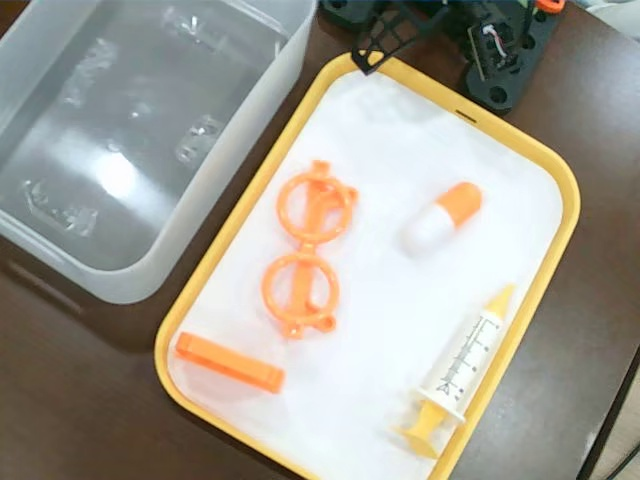pill: (399, 178, 481, 255)
syringe: (396, 283, 518, 457)
